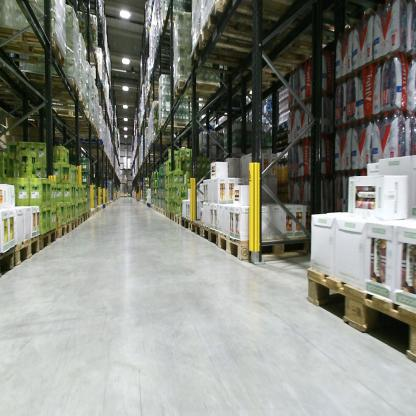pallet: (306, 258, 413, 363), (199, 3, 275, 56), (188, 34, 263, 82), (216, 228, 319, 262), (0, 27, 68, 69), (214, 1, 301, 30), (24, 68, 81, 99), (171, 76, 222, 103), (249, 58, 301, 84), (11, 233, 40, 269), (44, 88, 87, 110), (202, 99, 246, 116), (56, 106, 93, 124), (38, 227, 58, 255), (199, 221, 218, 249), (156, 29, 177, 54), (58, 118, 97, 131), (1, 244, 15, 279), (160, 13, 177, 38), (157, 119, 188, 132), (71, 126, 101, 139), (188, 124, 216, 135), (55, 221, 71, 239), (190, 219, 203, 238), (85, 52, 100, 67), (181, 216, 192, 232), (69, 216, 78, 232), (76, 216, 83, 229), (174, 213, 181, 226), (169, 210, 176, 222), (82, 212, 88, 223), (162, 209, 168, 218), (86, 210, 91, 220), (89, 209, 94, 218), (94, 206, 98, 214), (166, 211, 170, 219), (159, 207, 163, 214), (156, 206, 159, 214), (97, 205, 99, 213)
pallet_truck: (135, 178, 142, 204)
